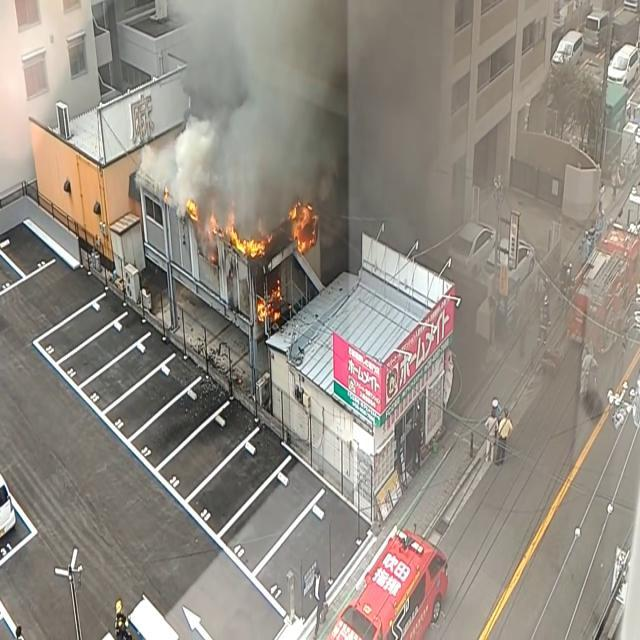Fire: (206, 213, 268, 263), (288, 195, 320, 258), (181, 194, 200, 227)
Smoke: (149, 0, 349, 235)
